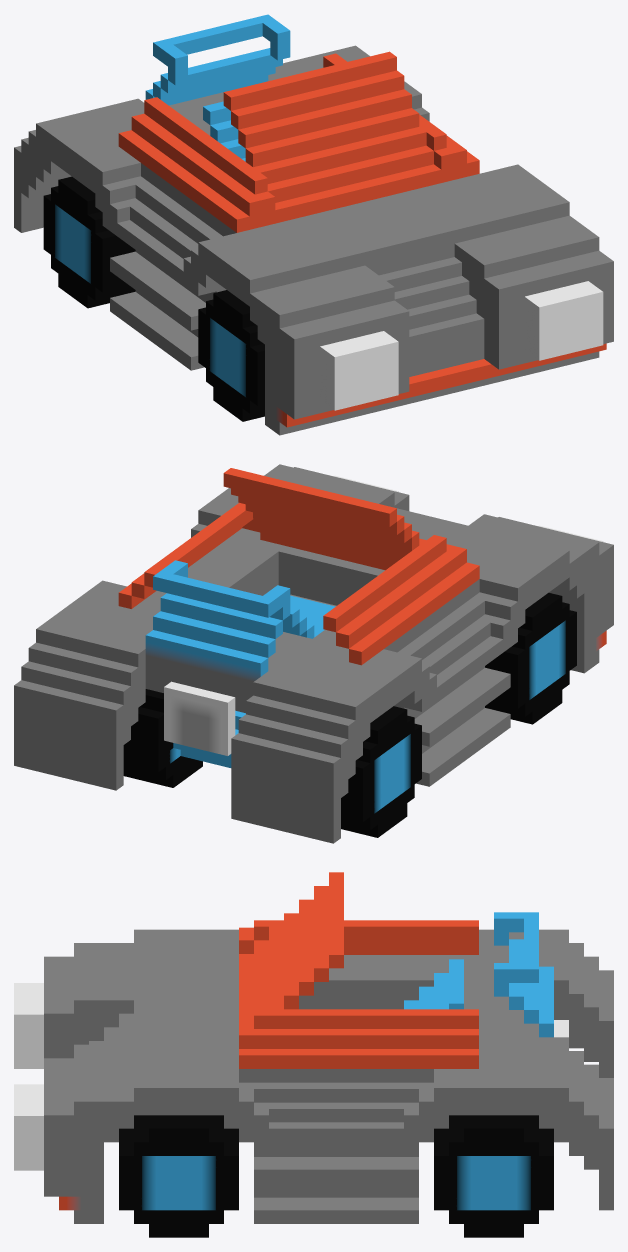
File: Car_37.fbx
3 renders of one model, top to bottom at view 1: azimuth 30°, elevation 25°; view 2: azimuth 150°, elevation 25°; view 3: azimuth 270°, elevation 25°, orthographic.
Visible parts, largest first — view 1: Car_37; view 2: Car_37; view 3: Car_37.
Part boxes in pixels (bbox=[...]): Car_37: bbox=[14, 14, 613, 435]; Car_37: bbox=[14, 464, 613, 843]; Car_37: bbox=[14, 872, 613, 1237].
Size of the model in its own units: 25 by 18 by 40.
1 material, 1 textured.
